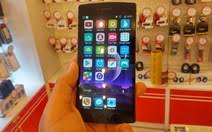bphone: (74, 2, 138, 126)
